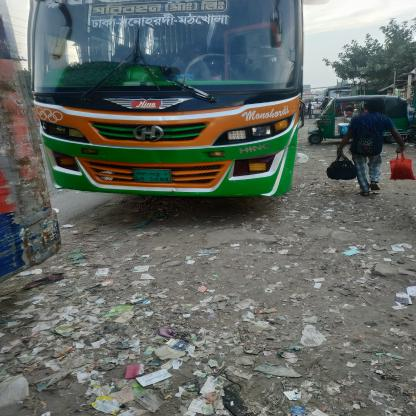license_plate: (131, 170, 172, 182)
